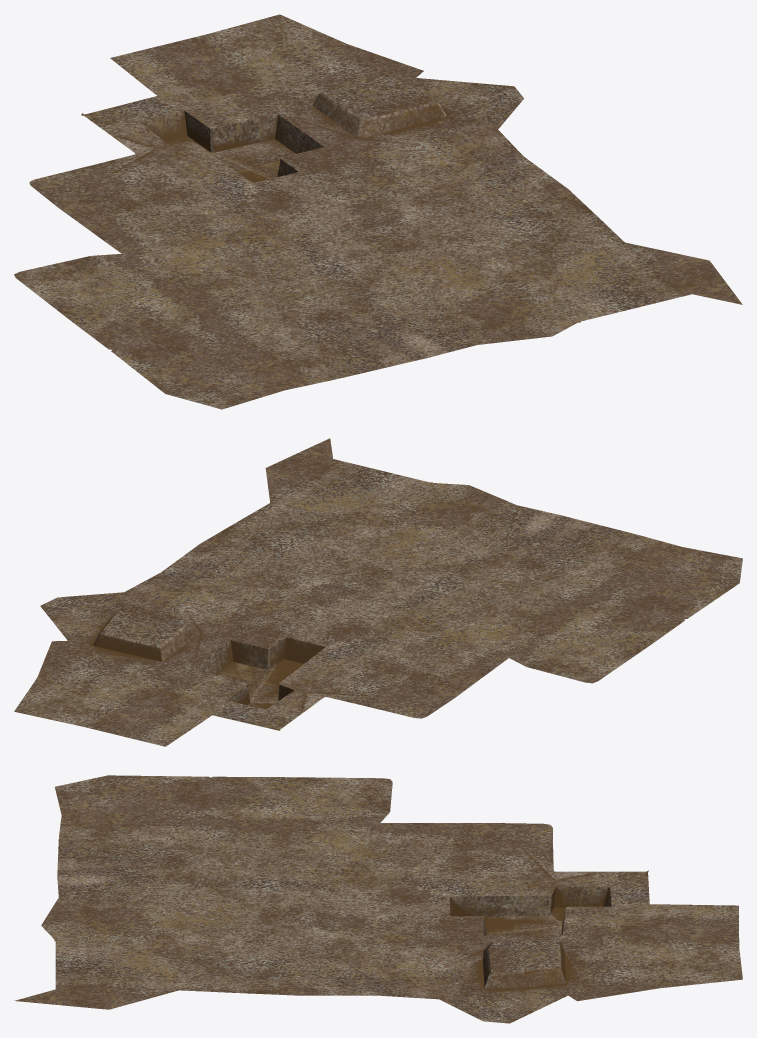
File: suelo_t_2.obj
The picture shows the model from 3 angles, top to bottom: view 1: azimuth 30°, elevation 25°; view 2: azimuth 150°, elevation 25°; view 3: azimuth 270°, elevation 25°; orthographic projection. The views are drawn at different scales.
Visible parts, largest first — view 1: suelo_t_2; view 2: suelo_t_2; view 3: suelo_t_2.
Boxes of the visible parts, x1,y1,x2,y2 form: suelo_t_2: [14, 14, 742, 409]; suelo_t_2: [14, 438, 742, 746]; suelo_t_2: [14, 775, 742, 1023].
Bounding box in the file's own units: 250 × 15.2 × 311.
Materials: 1 (1 with a texture image).
